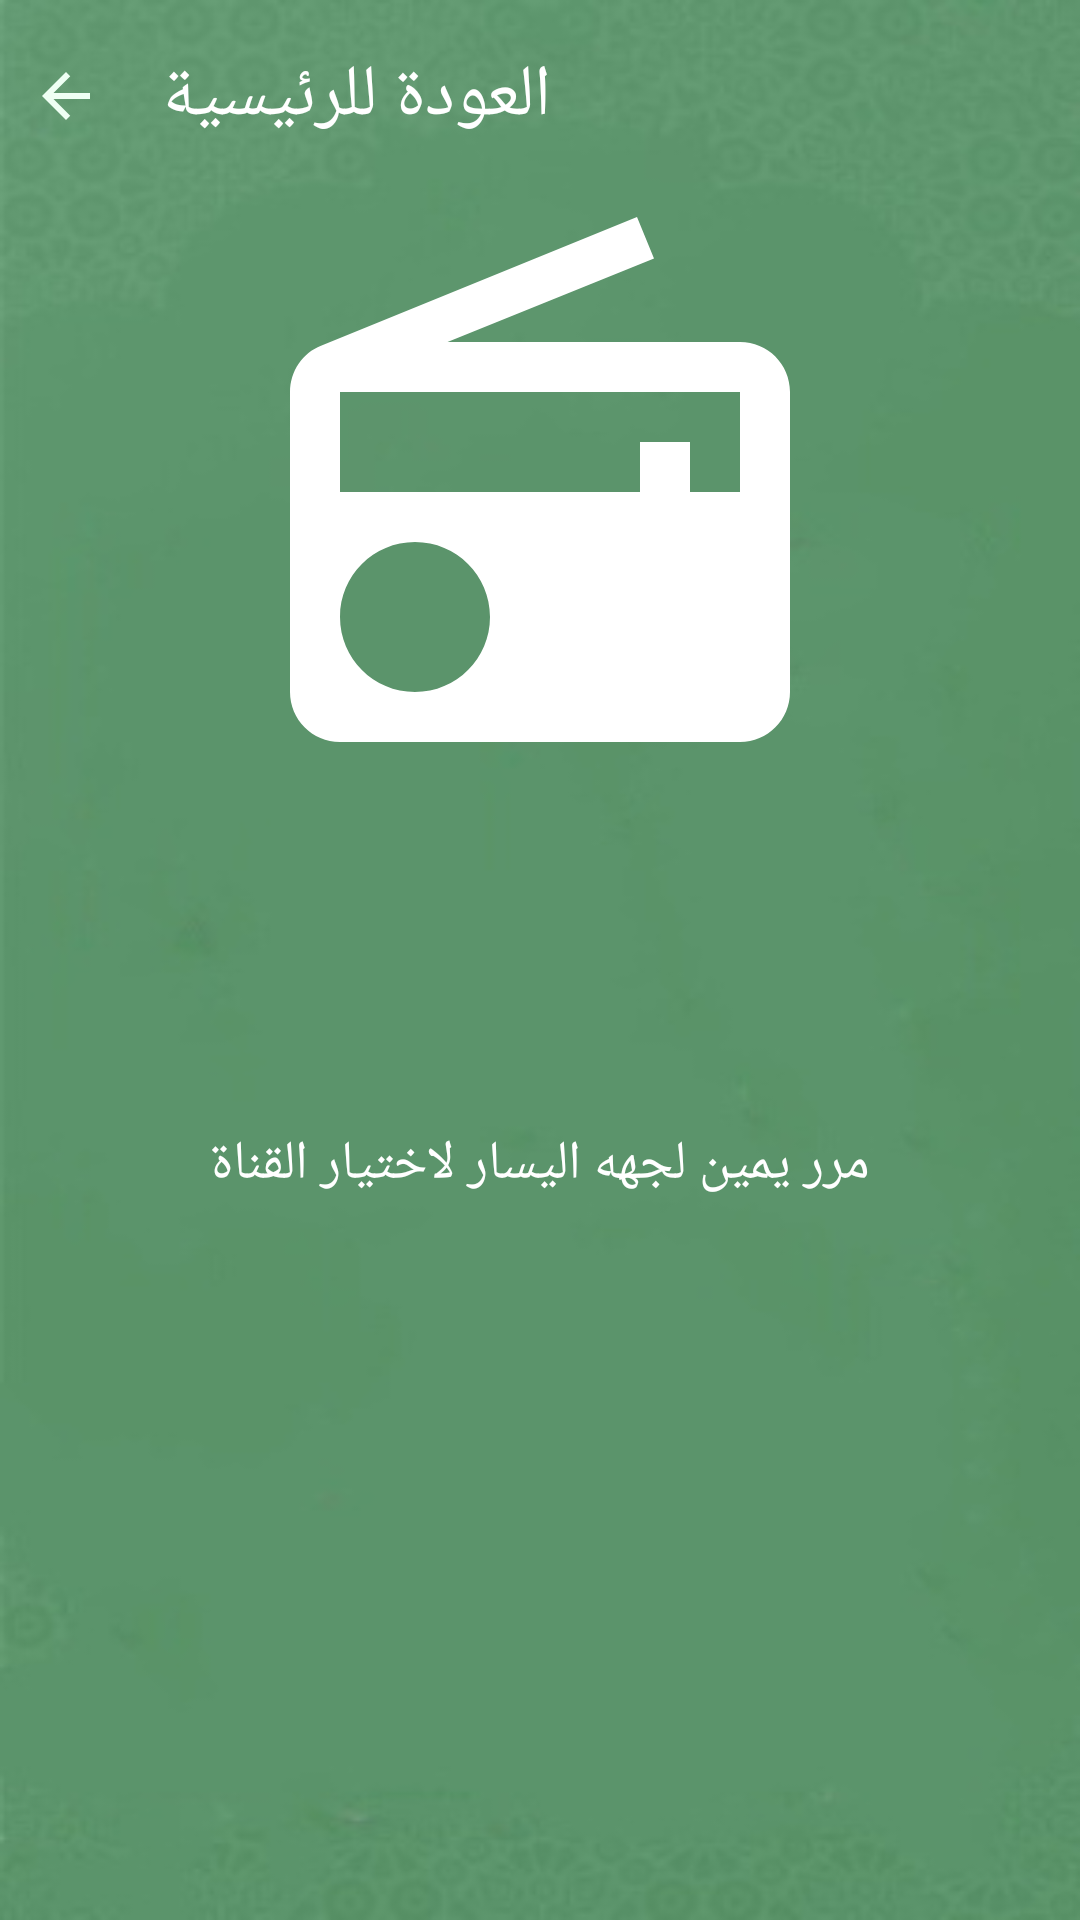

Named icons in this screenshot (1080px×1920px) and their centers, [x,y]:
arrow back: [66,96]
